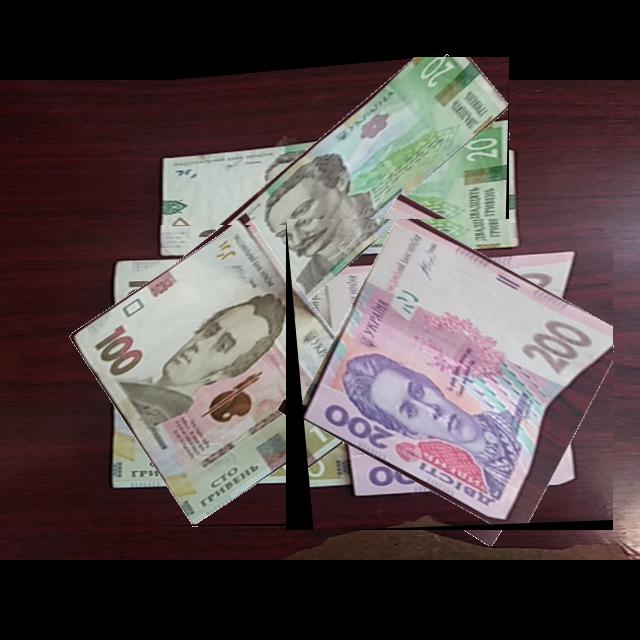100uah: (72, 225, 370, 526)
200uah: (300, 219, 614, 526)
20uah: (172, 57, 509, 350)
